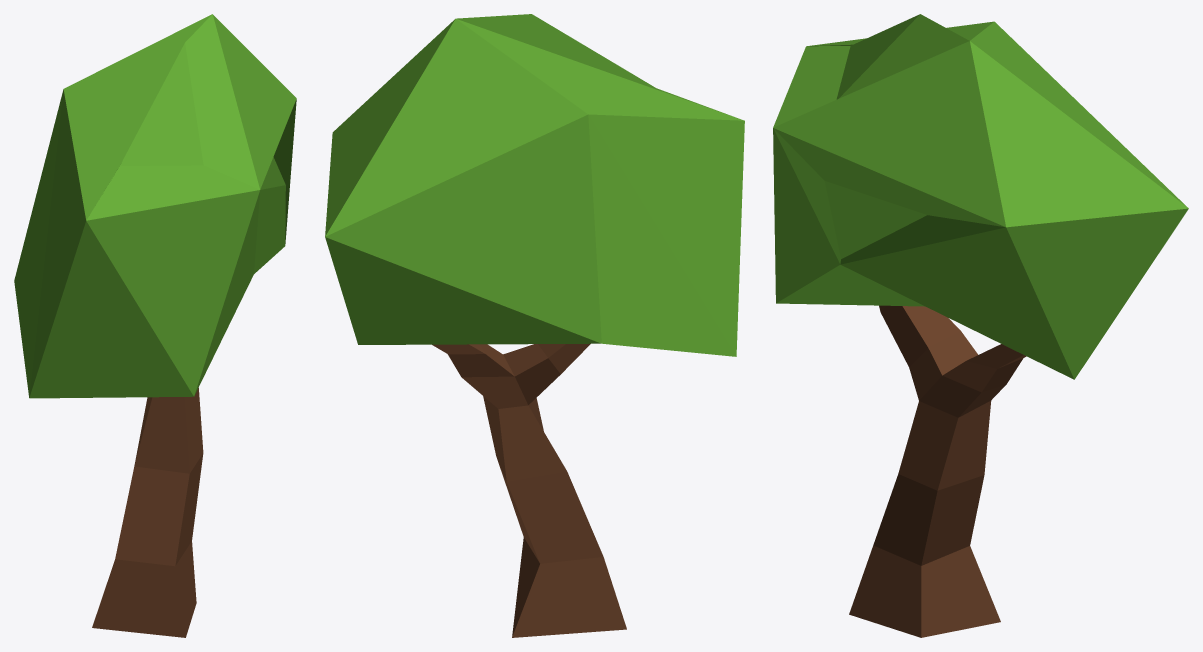
The model's file is Tree 1.fbx.
The picture shows the model from 3 angles, left to right: view 1: azimuth 30°, elevation 25°; view 2: azimuth 150°, elevation 25°; view 3: azimuth 270°, elevation 25°; orthographic projection. The views are drawn at different scales.
Parts seen in each view (by area): view 1: Tree_Top_1, Wood_1; view 2: Tree_Top_1, Wood_1; view 3: Tree_Top_1, Wood_1.
Part boxes in pixels (box(x1,y1,x2,y2)): Tree_Top_1: box(14, 14, 296, 398); Wood_1: box(92, 387, 203, 637); Tree_Top_1: box(325, 14, 744, 356); Wood_1: box(432, 343, 626, 637); Tree_Top_1: box(773, 14, 1188, 379); Wood_1: box(849, 305, 1026, 637).
Bounding box in the file's own units: 5575 × 9202 × 5616.
